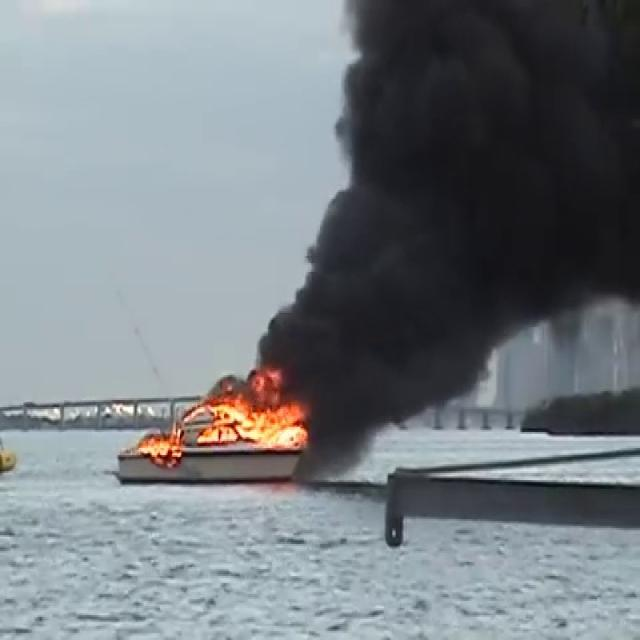Fire: (194, 388, 313, 451)
Smoke: (257, 0, 640, 434)
